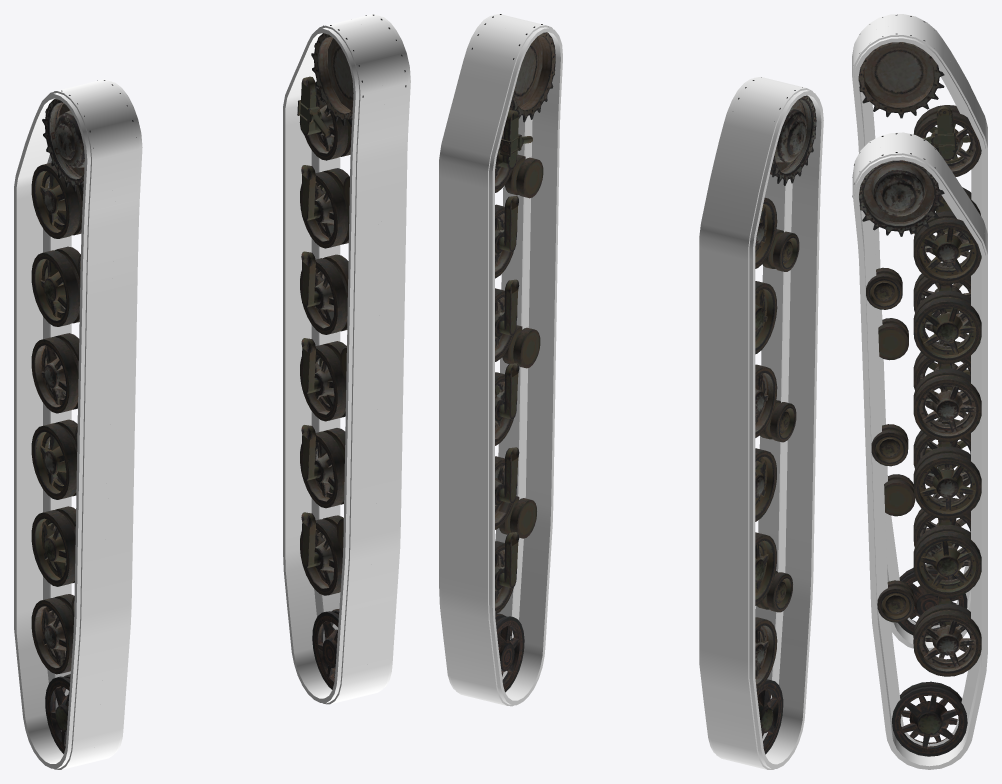
The model's file is Chassis_03.glb.
The picture shows the model from 3 angles, left to right: view 1: azimuth 30°, elevation 25°; view 2: azimuth 150°, elevation 25°; view 3: azimuth 270°, elevation 25°; orthographic projection. The views are drawn at different scales.
Parts seen in each view (by area): view 1: set_0_group_0, set_1_group_0, set_3_group_0, set_2_group_0; view 2: set_0_group_0, set_1_group_0, set_3_group_0, set_2_group_0; view 3: set_3_group_0, set_1_group_0, set_2_group_0, set_0_group_0.
Boxes of the visible parts, x1=… form: set_0_group_0: x1=14, y1=79, x2=142, y2=769; set_1_group_0: x1=283, y1=14, x2=410, y2=704; set_3_group_0: x1=297, y1=14, x2=406, y2=689; set_2_group_0: x1=31, y1=80, x2=136, y2=753; set_0_group_0: x1=699, y1=77, x2=823, y2=769; set_1_group_0: x1=439, y1=14, x2=562, y2=706; set_3_group_0: x1=471, y1=14, x2=555, y2=692; set_2_group_0: x1=738, y1=77, x2=816, y2=754; set_3_group_0: x1=852, y1=133, x2=981, y2=756; set_1_group_0: x1=852, y1=132, x2=987, y2=769; set_2_group_0: x1=858, y1=14, x2=981, y2=635; set_0_group_0: x1=852, y1=14, x2=987, y2=650.
Size of the model in its own units: 3.4 by 6.84 by 1.37.
4 materials, 2 textured.
